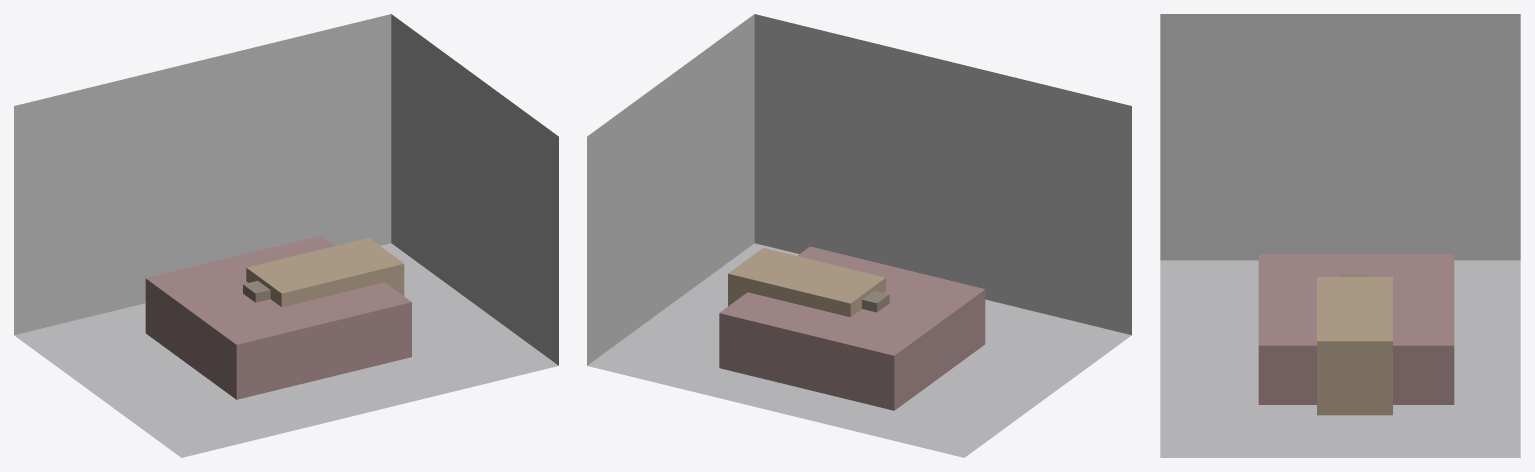
Rendered from current_layout.glb.
The picture shows the model from 3 angles, left to right: view 1: azimuth 30°, elevation 25°; view 2: azimuth 150°, elevation 25°; view 3: azimuth 270°, elevation 25°; orthographic projection. The views are drawn at different scales.
Visible parts, largest first — view 1: room, bed, desk; view 2: room, bed, desk; view 3: room, bed, desk.
Part boxes in pixels (x1,y1,x2,y2): room: (14, 14, 558, 457); bed: (145, 235, 411, 399); desk: (246, 238, 404, 307); room: (587, 14, 1131, 457); bed: (719, 246, 985, 410); desk: (728, 248, 885, 317); room: (1160, 14, 1520, 457); bed: (1258, 254, 1454, 404); desk: (1317, 277, 1392, 415).
Bounding box in the file's own units: 4.31 × 2.5 × 3.31.
